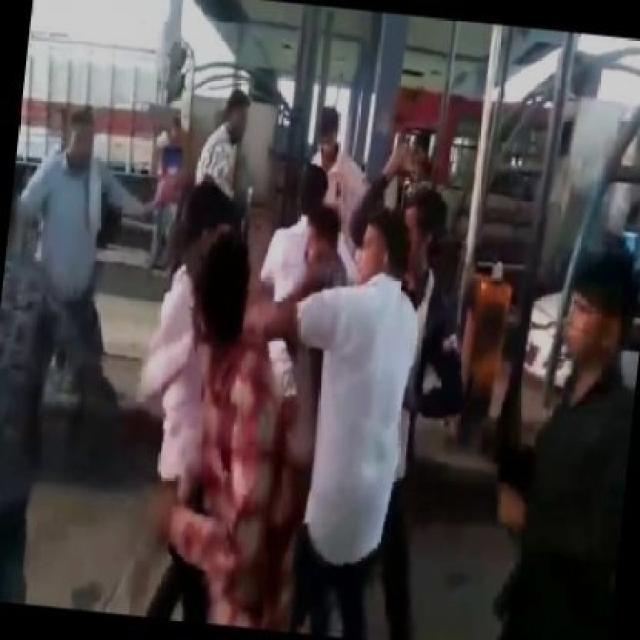fight: (139, 207, 423, 639)
non-fight: (489, 256, 632, 636), (16, 106, 146, 486)
